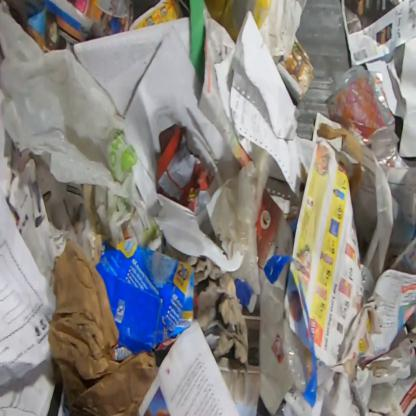cardboard: (48, 241, 159, 416), (95, 236, 196, 356), (8, 146, 96, 278), (186, 255, 250, 369), (365, 36, 415, 159), (276, 32, 316, 104)
rigid_plastic: (324, 65, 410, 169)
soft_plastic: (0, 0, 152, 249), (206, 140, 272, 298), (257, 266, 313, 416), (204, 0, 272, 45), (299, 275, 317, 408), (264, 254, 296, 285)
